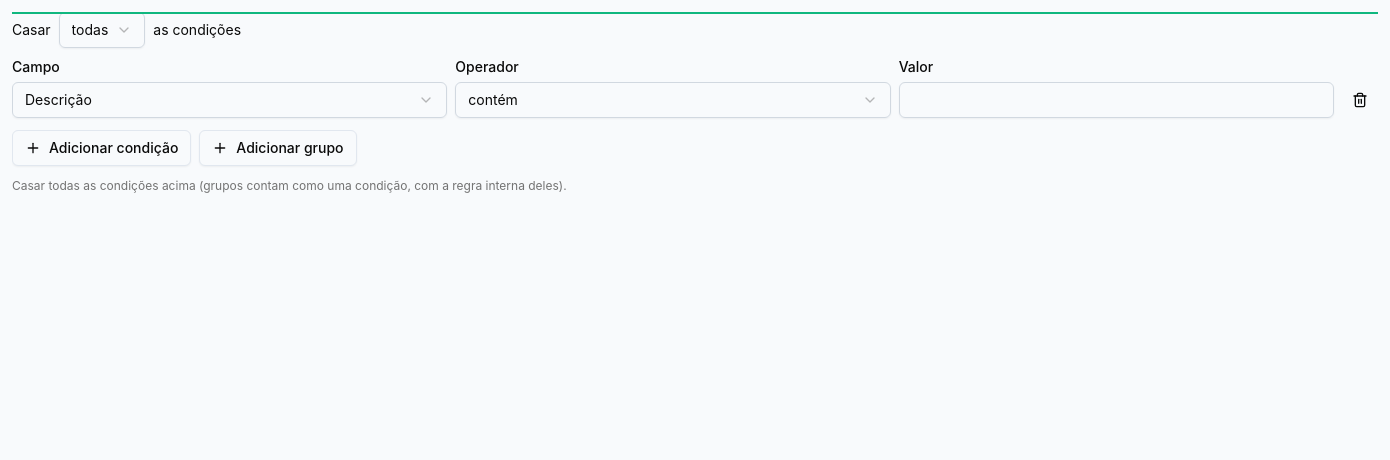
it: ConditionList › adiciona um grupo com sua própria condição e permite adicionar mais dentro dele
This screenshot has width=1390, height=460.
Click the button "Adicionar grupo": x=278, y=148 x1=199 y1=130 x2=356 y2=166
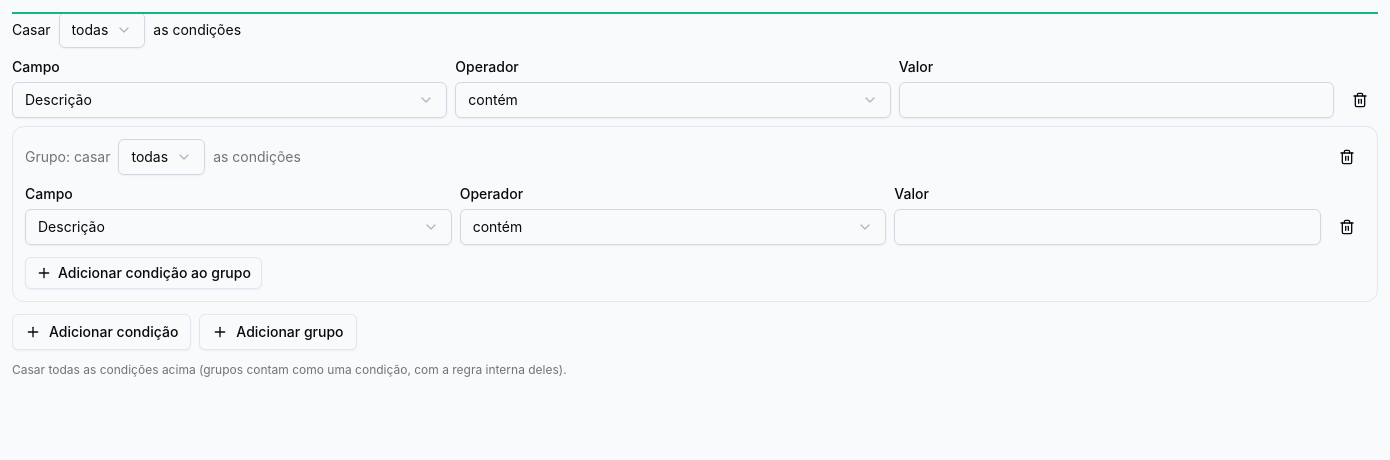
Check: the text "Grupo: casar" is shown, box x1=25 y1=147 x2=110 y2=167
Check: the number of buttons named "Remover condição" is 2, box x1=1342 y1=82 x2=1378 y2=118; x1=1329 y1=209 x2=1365 y2=245
Check: the button named "Remover grupo" is shown, box x1=1329 y1=139 x2=1365 y2=175
Click the button "Adicionar condição ao grupo": x=143, y=273 x1=25 y1=257 x2=262 y2=289
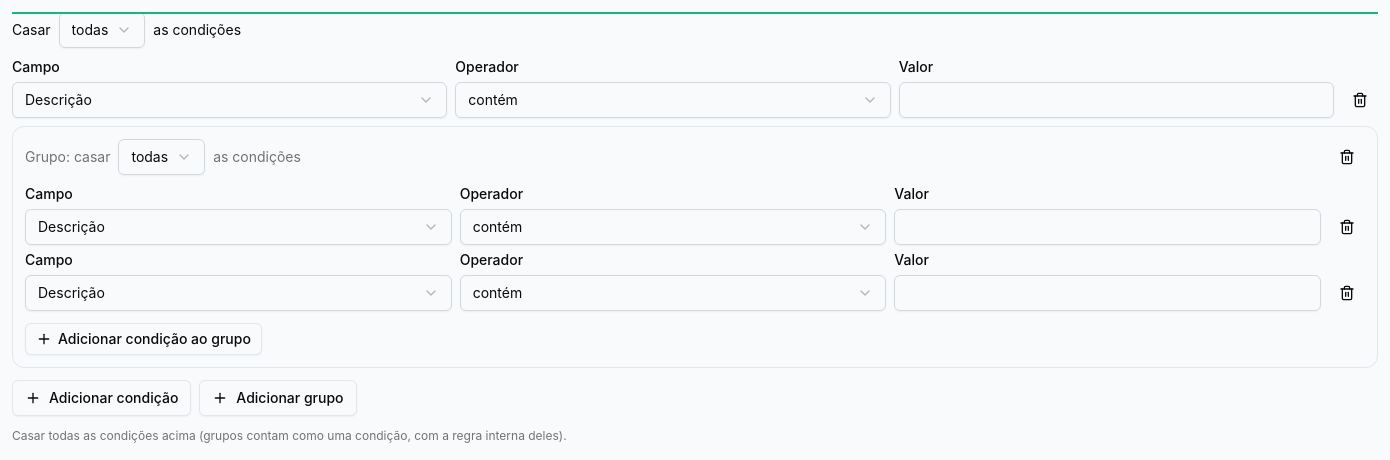
Check: the number of buttons named "Remover condição" is 3, box x1=1342 y1=82 x2=1378 y2=118; x1=1329 y1=209 x2=1365 y2=245; x1=1329 y1=275 x2=1365 y2=311
